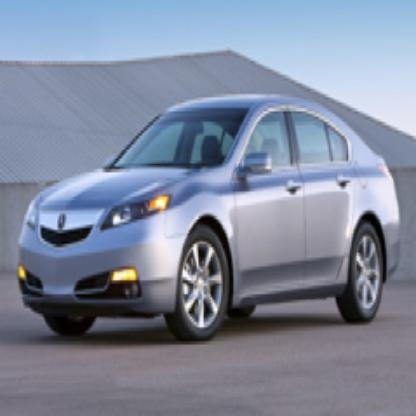Vehicle: (17, 94, 402, 350)
